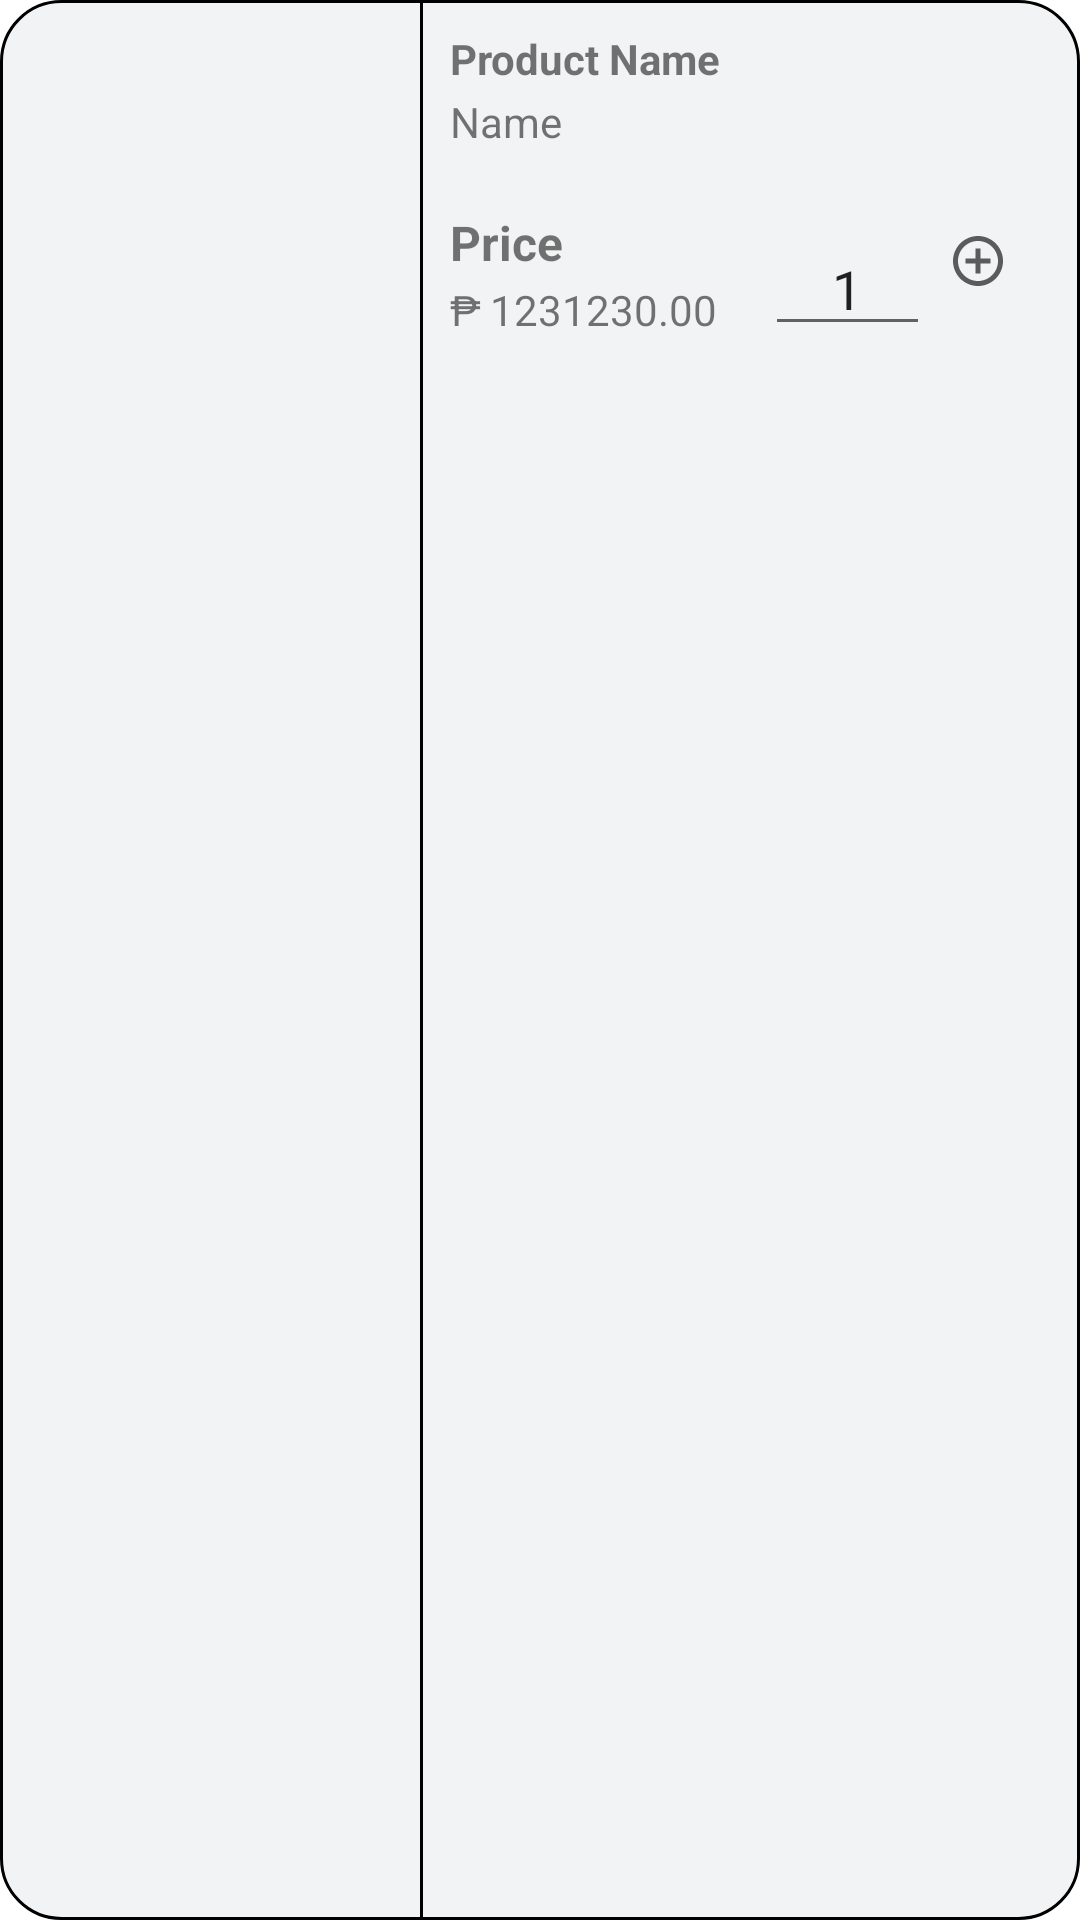

Where to tap for icons on this 1080x1920 app screen, as (x=x, y=y):
add circle: (x=978, y=261)
